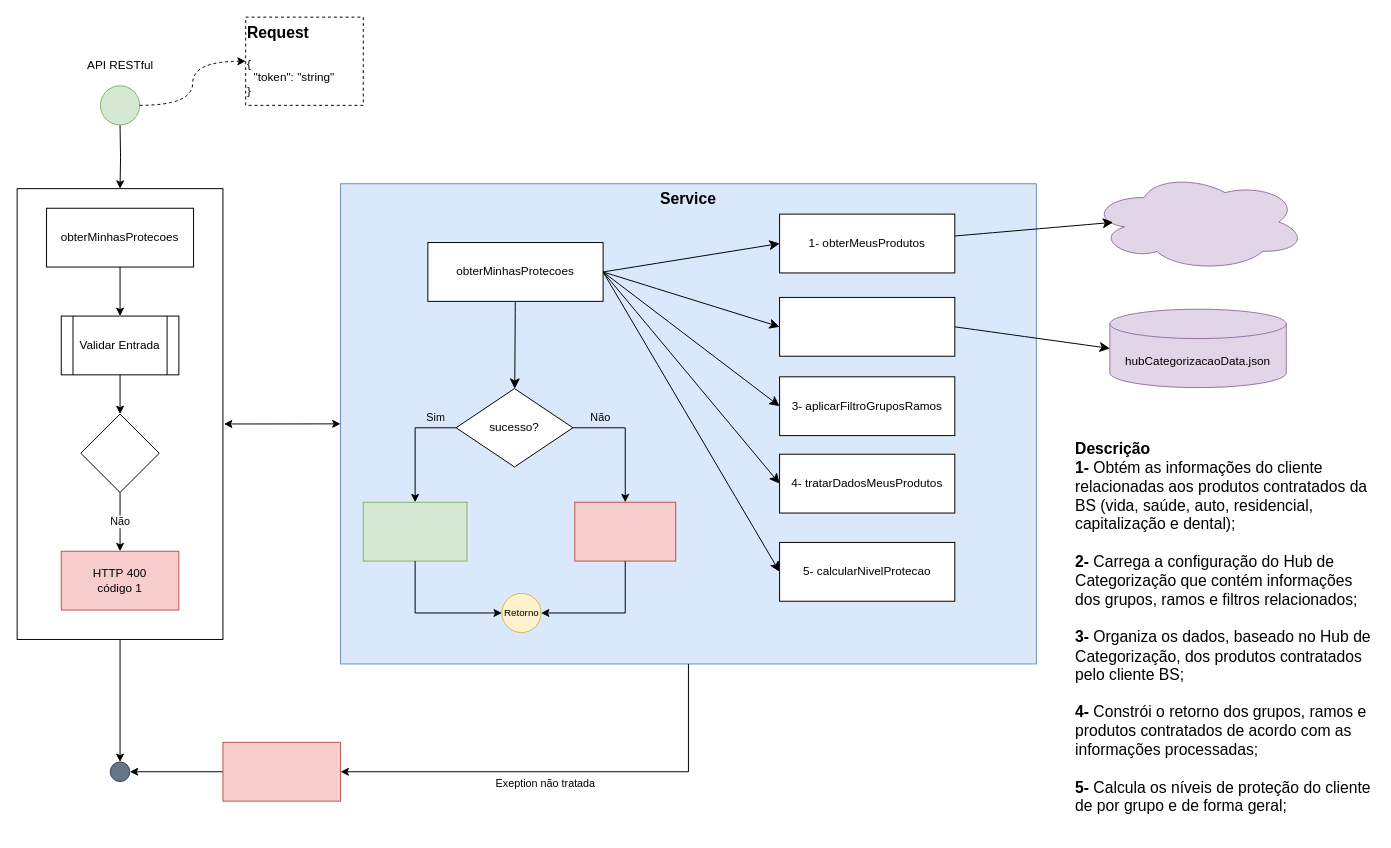
Some shapes in this 1391 by 848 pixel diagram are drawn without their labels. Here are the shapes that lost their labels. From the top down, the centre of each, then its label:
the point at 119,105: Início
the point at 1197,221: BFF Meus Produtos BS
the point at 867,326: 2- obterHubCategorizacao
the point at 119,452: Entrada valida?
the point at 414,531: HTTP 200 código 0
the point at 625,531: HTTP 500 código 99
the point at 281,771: HTTP 500 código 80
